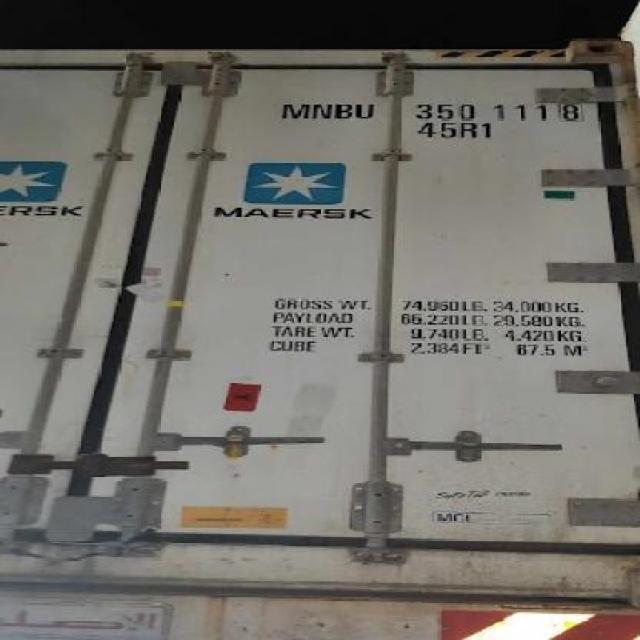ISO: (420, 123, 492, 136)
container_number: (273, 98, 585, 119)
